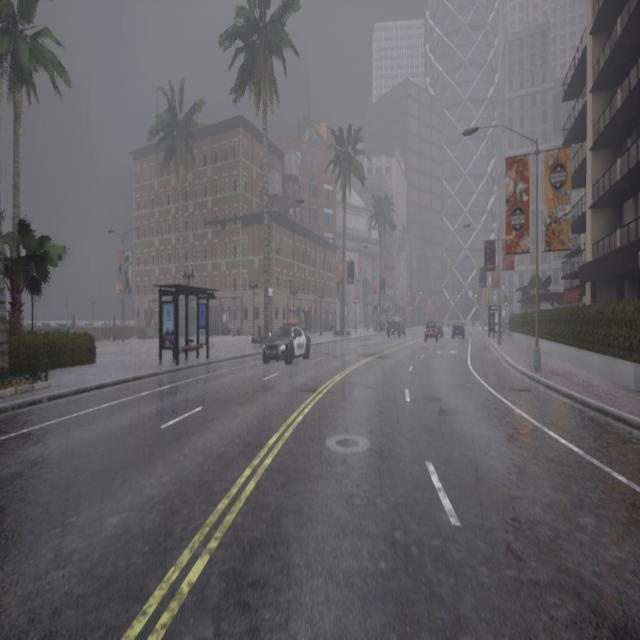bien_chi_dan: (504, 294, 508, 307), (456, 288, 459, 299), (475, 288, 478, 298), (456, 294, 459, 298), (475, 293, 478, 297), (504, 302, 508, 305)
